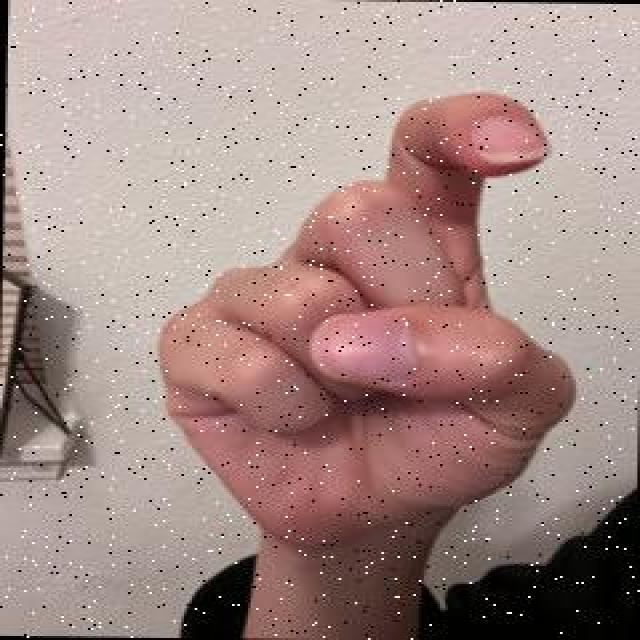X: (140, 81, 591, 557)
